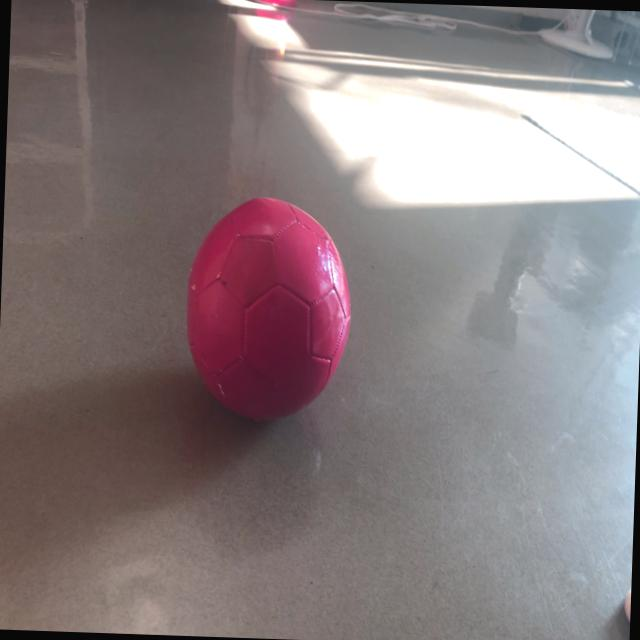red_ball: (182, 194, 355, 423)
